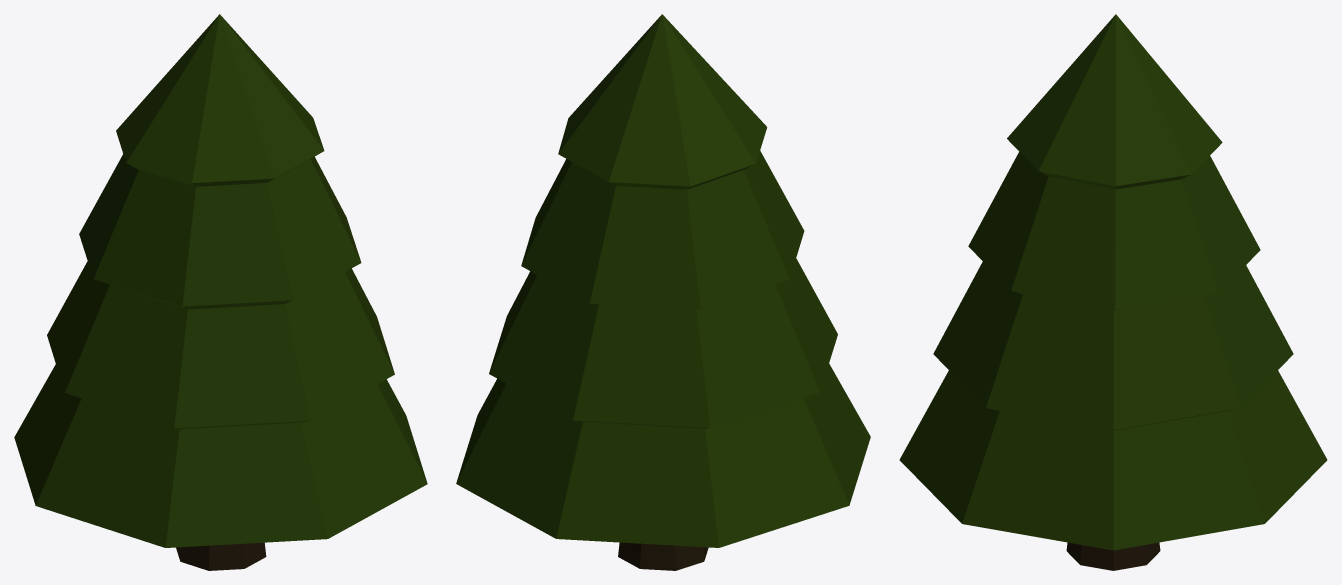
File: tree9.fbx
The picture shows the model from 3 angles, left to right: view 1: azimuth 30°, elevation 25°; view 2: azimuth 150°, elevation 25°; view 3: azimuth 270°, elevation 25°; orthographic projection.
Parts seen in each view (by area): view 1: FeuillageSapin, TroncSapin; view 2: FeuillageSapin, TroncSapin; view 3: FeuillageSapin, TroncSapin.
Part boxes in pixels (<box>): FeuillageSapin: <box>14,14,427,547</box>; TroncSapin: <box>176,542,266,570</box>; FeuillageSapin: <box>456,14,870,547</box>; TroncSapin: <box>618,542,708,570</box>; FeuillageSapin: <box>899,14,1327,550</box>; TroncSapin: <box>1066,542,1160,570</box>.
Size of the model in its own units: 41.11 by 56.9 by 41.11.
